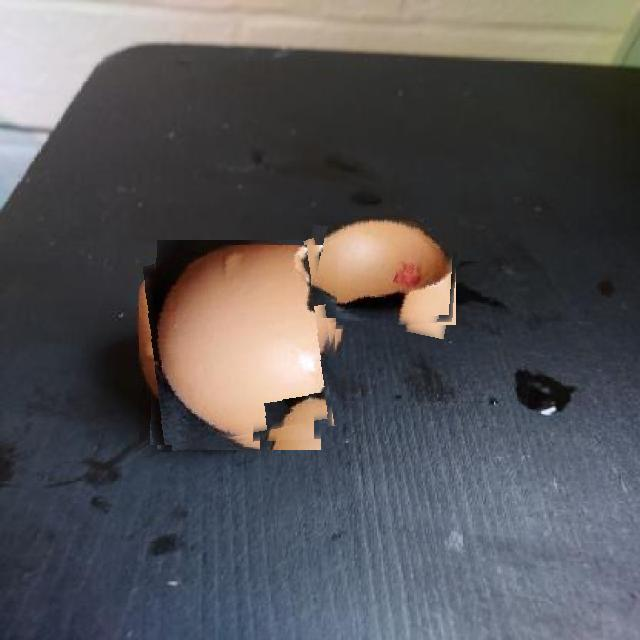biodegradable: (139, 245, 339, 446), (302, 216, 460, 332)
